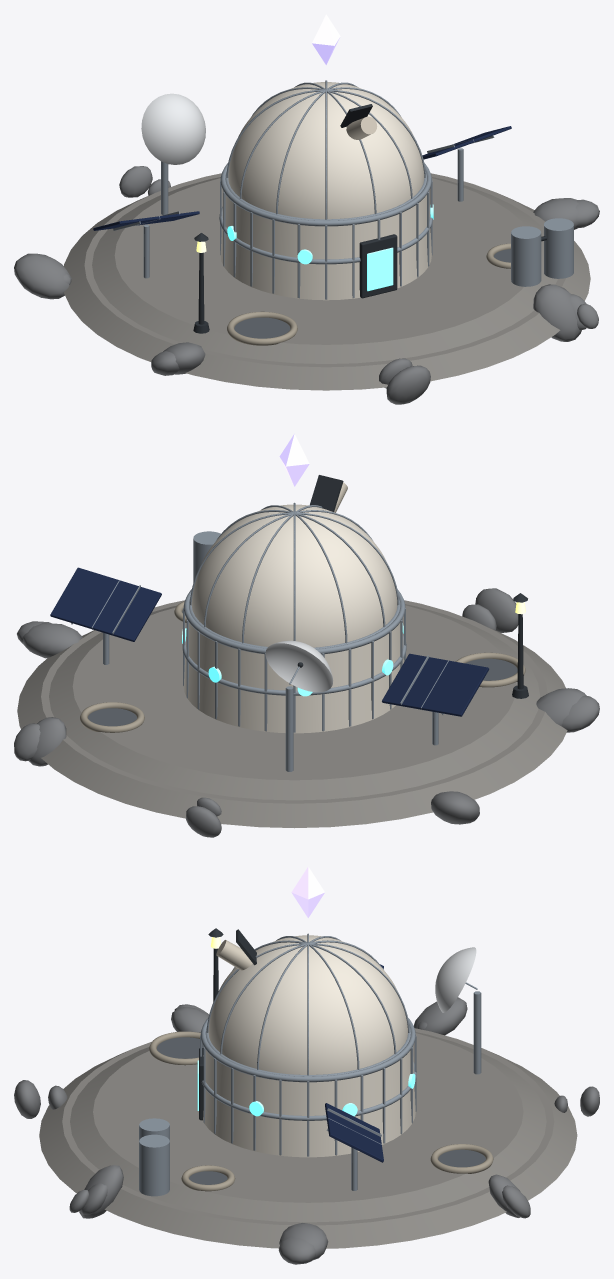
Rendered from unit05.glb.
3 views of the same model, one above another, from view 1: azimuth 30°, elevation 25°; view 2: azimuth 150°, elevation 25°; view 3: azimuth 270°, elevation 25° (orthographic). The views are drawn at different scales.
Visible parts, largest first — view 1: rw3_unit05_observatory_part0, rw3_unit05_observatory_part4, rw3_unit05_observatory_part5, rw3_unit05_observatory_part3, rw3_unit05_observatory_part10, rw3_unit05_observatory_part6, rw3_unit05_observatory_part1, rw3_unit05_observatory_part7, rw3_unit05_observatory_part2, rw3_unit05_observatory_part9, Crystal, rw3_unit05_observatory_part8; view 2: rw3_unit05_observatory_part0, rw3_unit05_observatory_part4, rw3_unit05_observatory_part5, rw3_unit05_observatory_part3, rw3_unit05_observatory_part9, rw3_unit05_observatory_part10, rw3_unit05_observatory_part1, rw3_unit05_observatory_part6, rw3_unit05_observatory_part2, Crystal; view 3: rw3_unit05_observatory_part0, rw3_unit05_observatory_part4, rw3_unit05_observatory_part5, rw3_unit05_observatory_part3, rw3_unit05_observatory_part1, rw3_unit05_observatory_part2, rw3_unit05_observatory_part9, rw3_unit05_observatory_part10, rw3_unit05_observatory_part6, Crystal, rw3_unit05_observatory_part8, rw3_unit05_observatory_part7.
Part boxes in pixels (<box>): rw3_unit05_observatory_part0: <box>64,173,590,390</box>; rw3_unit05_observatory_part4: <box>220,82,431,300</box>; rw3_unit05_observatory_part5: <box>113,80,573,299</box>; rw3_unit05_observatory_part3: <box>14,166,599,404</box>; rw3_unit05_observatory_part10: <box>141,93,205,164</box>; rw3_unit05_observatory_part6: <box>193,104,546,333</box>; rw3_unit05_observatory_part1: <box>227,243,510,345</box>; rw3_unit05_observatory_part7: <box>227,204,433,291</box>; rw3_unit05_observatory_part2: <box>234,249,510,338</box>; rw3_unit05_observatory_part9: <box>93,126,511,230</box>; Crystal: <box>312,14,340,64</box>; rw3_unit05_observatory_part8: <box>346,116,377,139</box>; rw3_unit05_observatory_part0: <box>17,600,567,828</box>; rw3_unit05_observatory_part4: <box>183,504,404,733</box>; rw3_unit05_observatory_part5: <box>71,502,448,771</box>; rw3_unit05_observatory_part3: <box>14,588,599,837</box>; rw3_unit05_observatory_part9: <box>50,567,489,716</box>; rw3_unit05_observatory_part10: <box>265,640,333,692</box>; rw3_unit05_observatory_part1: <box>80,601,525,732</box>; rw3_unit05_observatory_part6: <box>297,475,528,698</box>; rw3_unit05_observatory_part2: <box>88,610,517,726</box>; Crystal: <box>279,434,309,486</box>; rw3_unit05_observatory_part0: <box>39,1028,577,1248</box>; rw3_unit05_observatory_part4: <box>203,935,415,1157</box>; rw3_unit05_observatory_part5: <box>139,933,481,1196</box>; rw3_unit05_observatory_part3: <box>14,997,599,1264</box>; rw3_unit05_observatory_part1: <box>149,1031,493,1191</box>; rw3_unit05_observatory_part2: <box>157,1037,485,1184</box>; rw3_unit05_observatory_part9: <box>325,964,383,1162</box>; rw3_unit05_observatory_part10: <box>435,947,476,1012</box>; rw3_unit05_observatory_part6: <box>199,928,256,1120</box>; Crystal: <box>291,866,324,917</box>; rw3_unit05_observatory_part8: <box>216,940,252,970</box>; rw3_unit05_observatory_part7: <box>197,1060,415,1116</box>.
Bounding box in the file's own units: 7.76 × 4.09 × 7.62.
